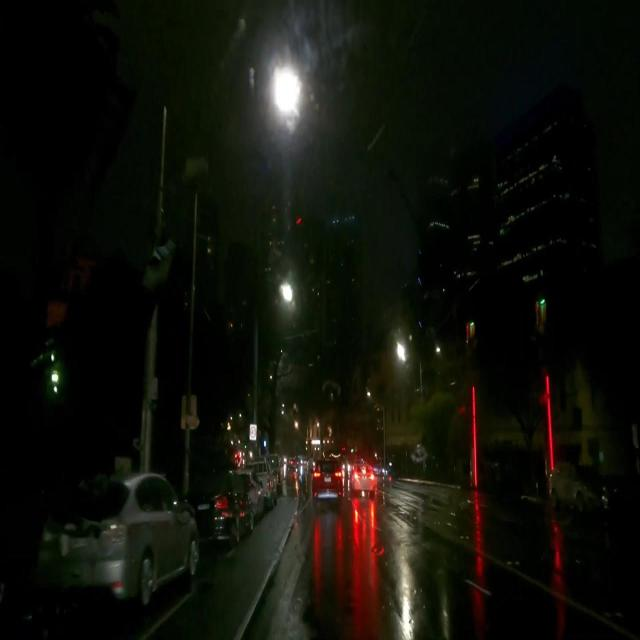Car: (45, 469, 197, 612), (194, 476, 251, 548), (545, 463, 608, 506), (309, 455, 340, 505)
